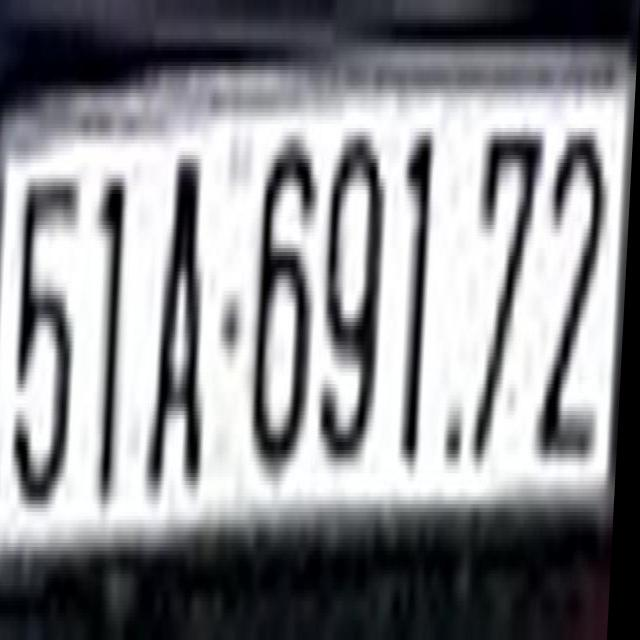1: (85, 156, 132, 532), (394, 128, 443, 481)
2: (539, 132, 619, 466)
5: (10, 152, 86, 536)
6: (248, 136, 327, 500)
7: (470, 117, 548, 470)
9: (319, 136, 394, 473)
A: (147, 132, 223, 504)
